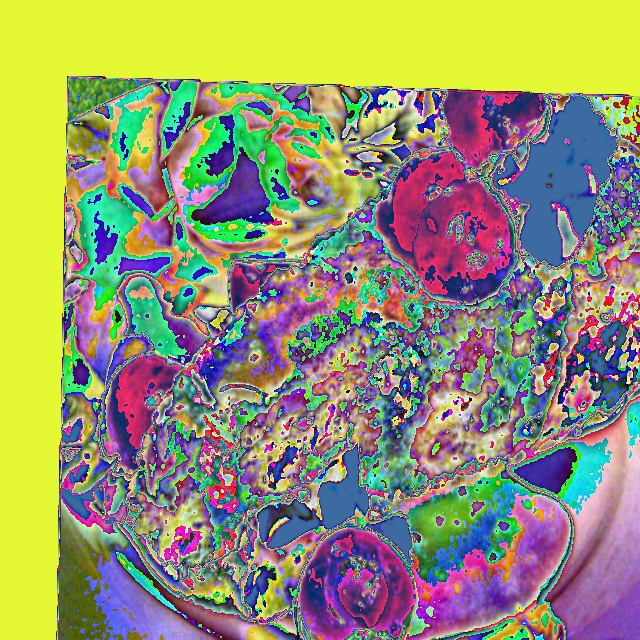background: (60, 90, 639, 639)
